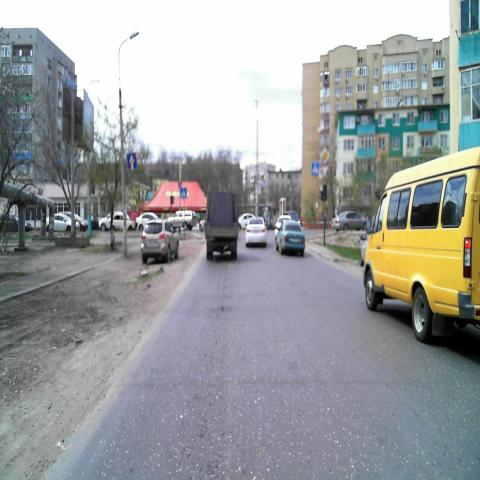2_2: (320, 147, 330, 165)
2_4: (322, 164, 329, 177)
5_19_1: (312, 162, 318, 176), (181, 187, 187, 199)
5_6: (126, 152, 137, 169)
